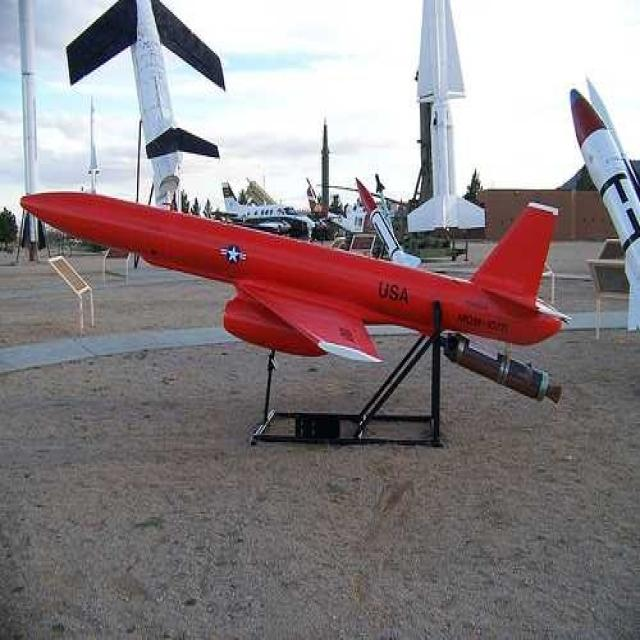missile: (22, 186, 565, 368)
